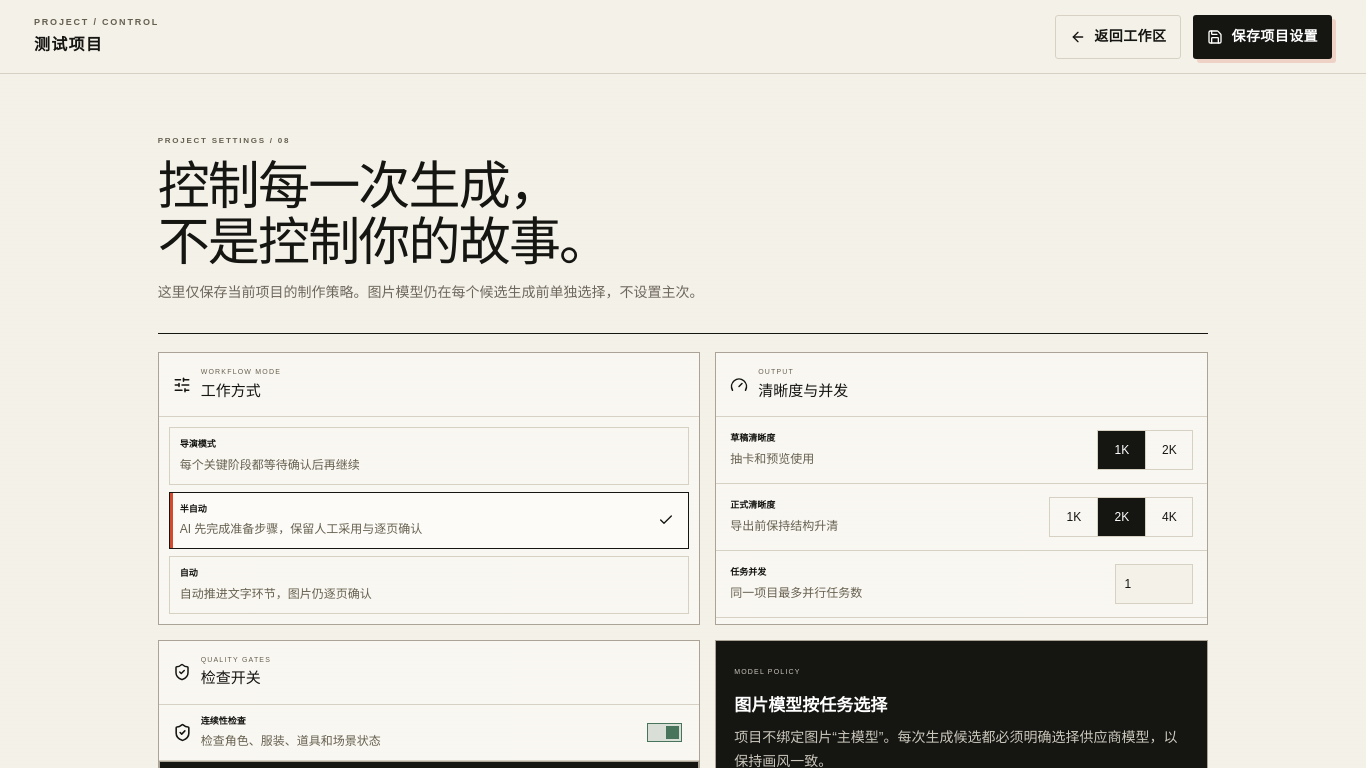
Test: ProjectSettingsPage 保存覆盖在途编辑（#650） › 保存在途无新修改时，成功后仍按服务器响应同步并提示已保存
Check: the element named "工作方式" is shown, box [159,417,699,624]
Step 1. Click the button "2K" in the row of "抽卡和预览使用" → click(1169, 450), box [1145,430,1193,470]
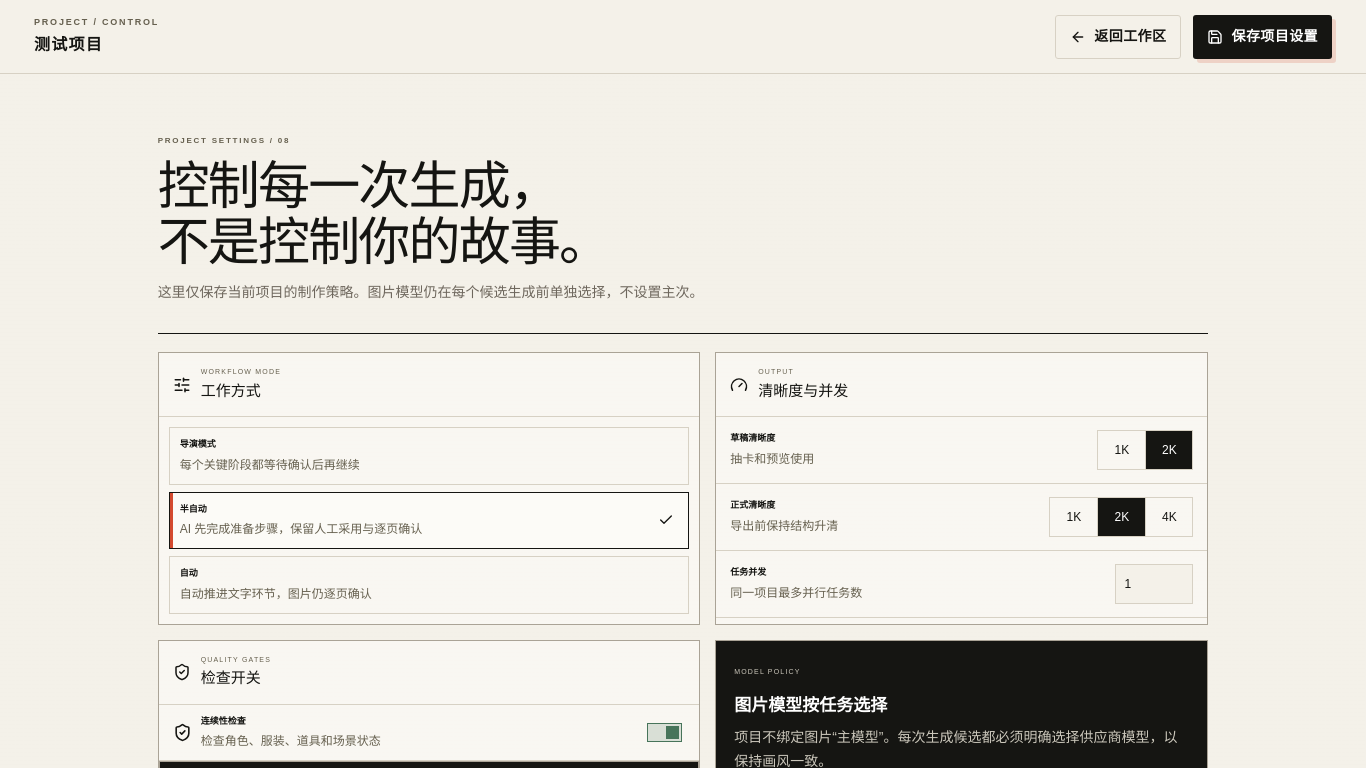
Step 2. Click the button "保存项目设置" → click(1263, 36), box [1194,14,1332,58]
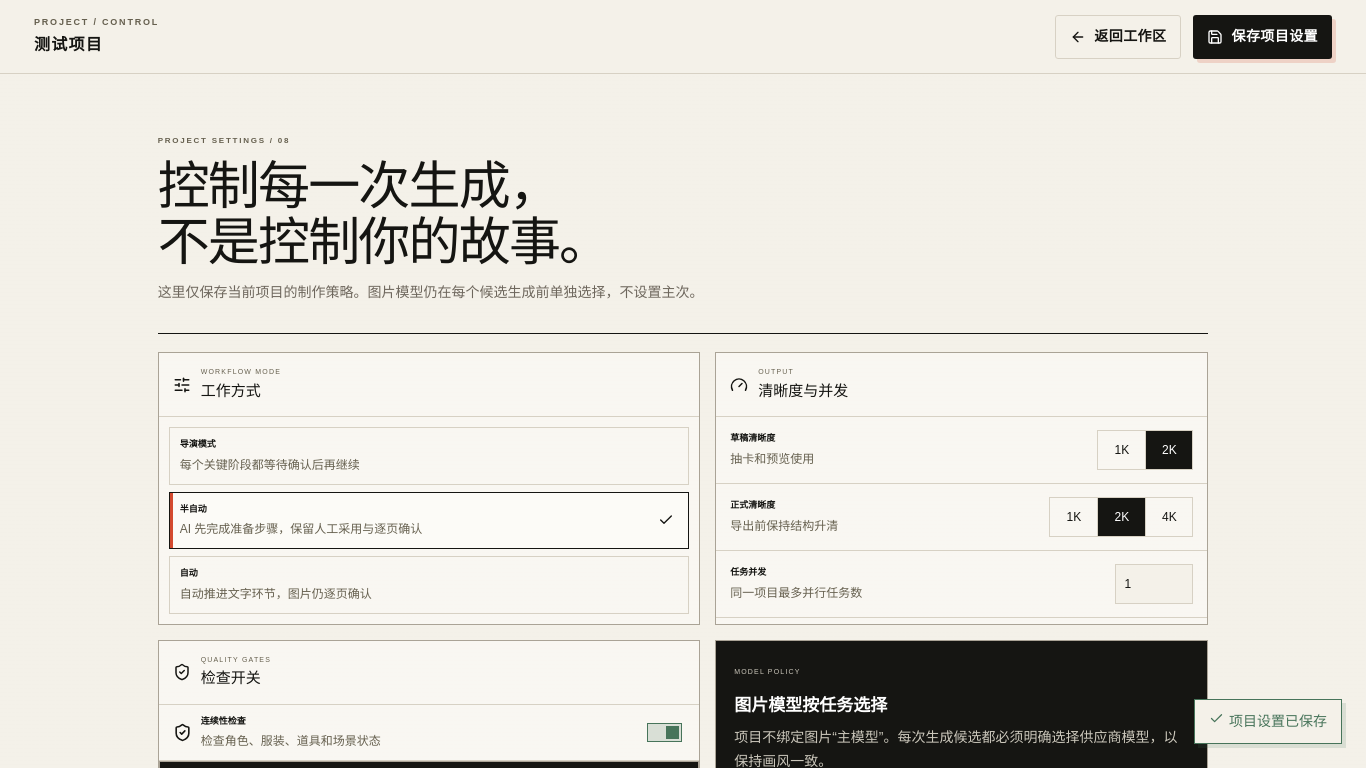
Check: the text "项目设置已保存" is shown, box [1194,699,1342,744]
